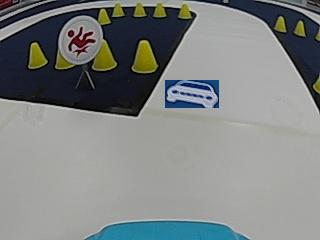cone: (91, 40, 119, 73), (133, 38, 159, 73), (27, 42, 49, 72), (52, 50, 73, 73), (271, 14, 288, 33), (179, 0, 194, 20), (110, 0, 125, 19), (96, 4, 110, 24), (133, 0, 146, 18), (293, 20, 305, 37), (153, 0, 165, 16)
tumble: (64, 23, 99, 58)
